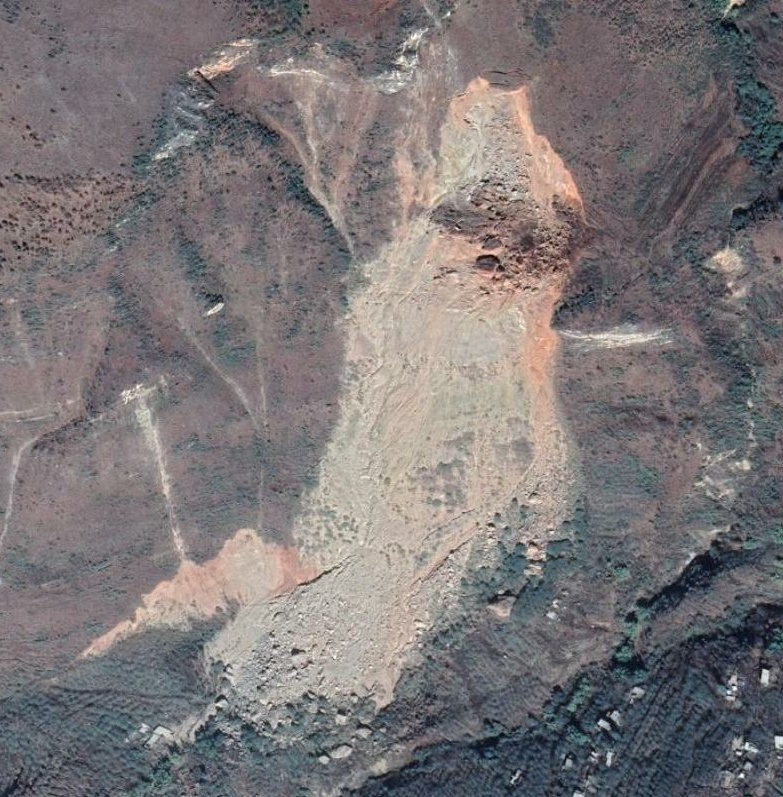slope: (239, 79, 585, 722), (71, 520, 316, 664)
